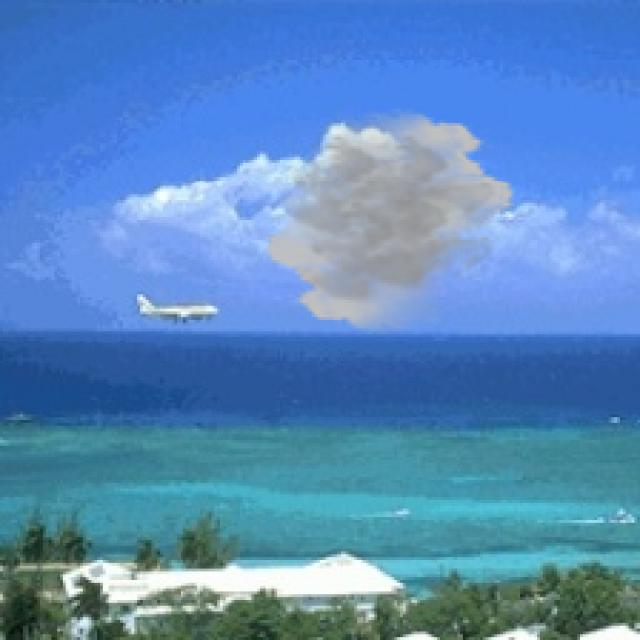smoke: (263, 109, 517, 334)
